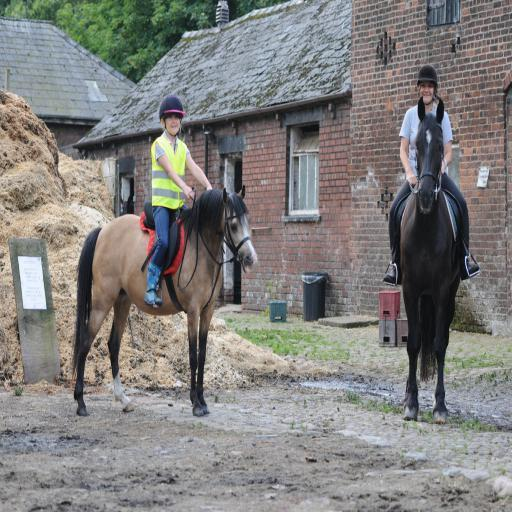horse: (68, 186, 262, 420), (392, 98, 464, 420)
